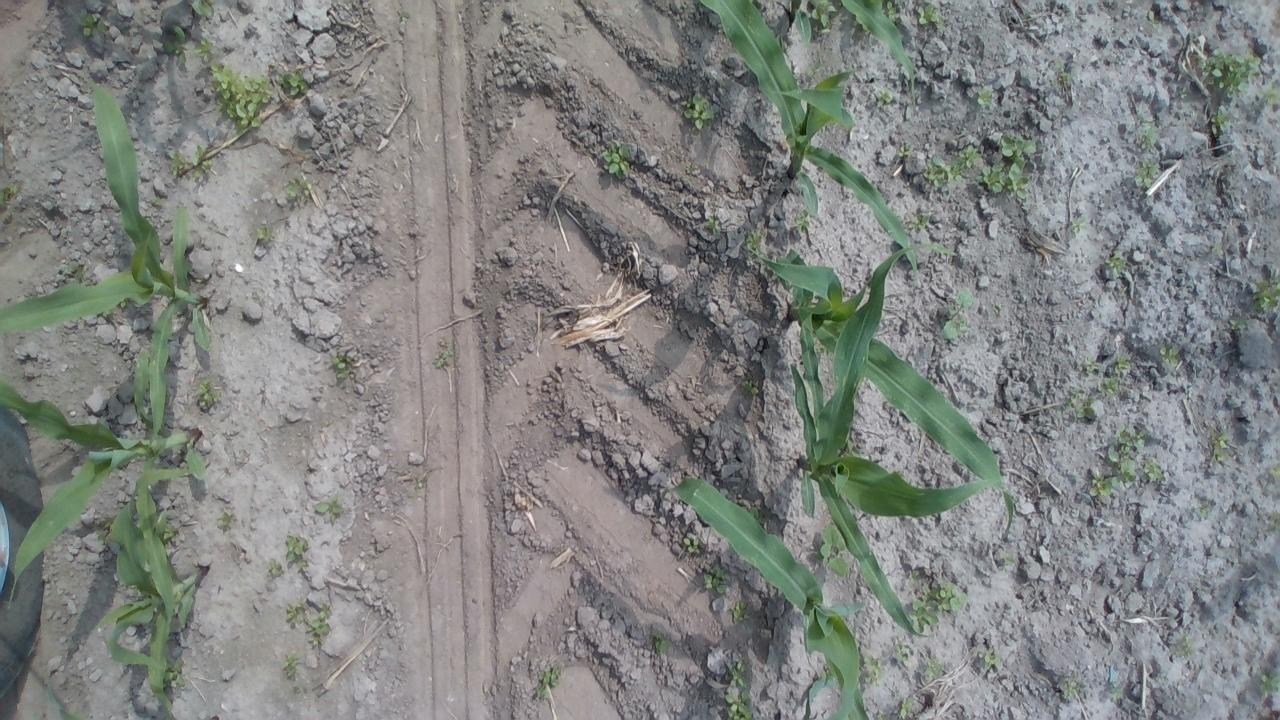Maize: (748, 242, 1016, 537), (0, 79, 214, 444), (789, 242, 958, 643), (696, 0, 917, 268), (0, 349, 206, 622), (659, 475, 874, 720), (96, 467, 212, 720), (778, 0, 915, 112), (46, 671, 84, 720), (802, 672, 826, 718)
Weeds: (208, 62, 272, 132), (976, 128, 1036, 202), (1196, 48, 1263, 100), (905, 578, 970, 630), (924, 140, 982, 185), (1107, 419, 1146, 483), (815, 522, 849, 578), (940, 287, 974, 340), (166, 144, 213, 182), (679, 93, 716, 131), (1203, 420, 1231, 466), (530, 664, 564, 701), (1060, 387, 1098, 420), (307, 600, 333, 648), (1250, 274, 1280, 312), (274, 68, 312, 97), (602, 141, 630, 180), (314, 489, 343, 526), (724, 688, 753, 720), (284, 532, 312, 565), (286, 594, 312, 628), (1056, 673, 1084, 704), (703, 566, 730, 597), (810, 0, 839, 28), (194, 379, 220, 410), (861, 653, 884, 688), (1052, 56, 1076, 89), (1133, 160, 1162, 186), (918, 1, 944, 30), (1088, 474, 1119, 498), (1134, 125, 1162, 151), (724, 659, 749, 688), (1171, 633, 1196, 662), (284, 176, 314, 200), (164, 658, 186, 690), (78, 13, 107, 36), (1255, 668, 1280, 694), (1158, 341, 1180, 369), (253, 223, 282, 244), (332, 350, 352, 379), (1106, 249, 1129, 274), (651, 633, 677, 655), (922, 657, 946, 680), (164, 40, 188, 63), (1210, 108, 1232, 133), (282, 652, 302, 679), (1097, 375, 1120, 398), (978, 646, 1002, 668), (1142, 458, 1164, 482), (726, 598, 746, 624), (896, 694, 916, 720), (1112, 350, 1132, 376), (189, 0, 216, 18), (891, 642, 912, 665), (195, 35, 212, 63), (794, 209, 811, 236), (906, 214, 930, 233), (1265, 80, 1280, 110), (0, 185, 18, 210), (1106, 682, 1128, 702), (433, 346, 453, 368), (1070, 212, 1088, 236), (1082, 354, 1102, 375), (65, 263, 85, 284), (746, 229, 766, 250), (875, 87, 895, 108), (683, 534, 701, 556), (806, 58, 824, 78), (706, 214, 723, 235), (741, 379, 760, 397), (976, 88, 994, 107), (267, 557, 283, 578), (884, 1, 900, 22), (1226, 316, 1250, 330), (897, 142, 914, 159), (216, 511, 233, 528), (1196, 500, 1212, 518), (170, 24, 186, 42), (97, 520, 111, 540), (750, 507, 767, 523), (1136, 110, 1155, 124), (1268, 510, 1280, 532), (1146, 12, 1160, 30), (1210, 240, 1224, 258), (164, 524, 178, 540), (908, 569, 922, 584), (1177, 86, 1190, 99), (1002, 554, 1016, 566), (1270, 462, 1280, 478), (396, 10, 409, 22), (151, 195, 165, 206), (414, 477, 426, 488), (892, 687, 902, 700), (1257, 88, 1267, 100), (686, 164, 696, 176), (876, 711, 889, 720), (994, 301, 1003, 313), (300, 560, 310, 570), (818, 347, 829, 356), (818, 28, 832, 35), (120, 300, 128, 308), (408, 492, 414, 500), (105, 310, 113, 316)
